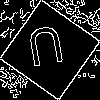U: (25, 25, 68, 76)
